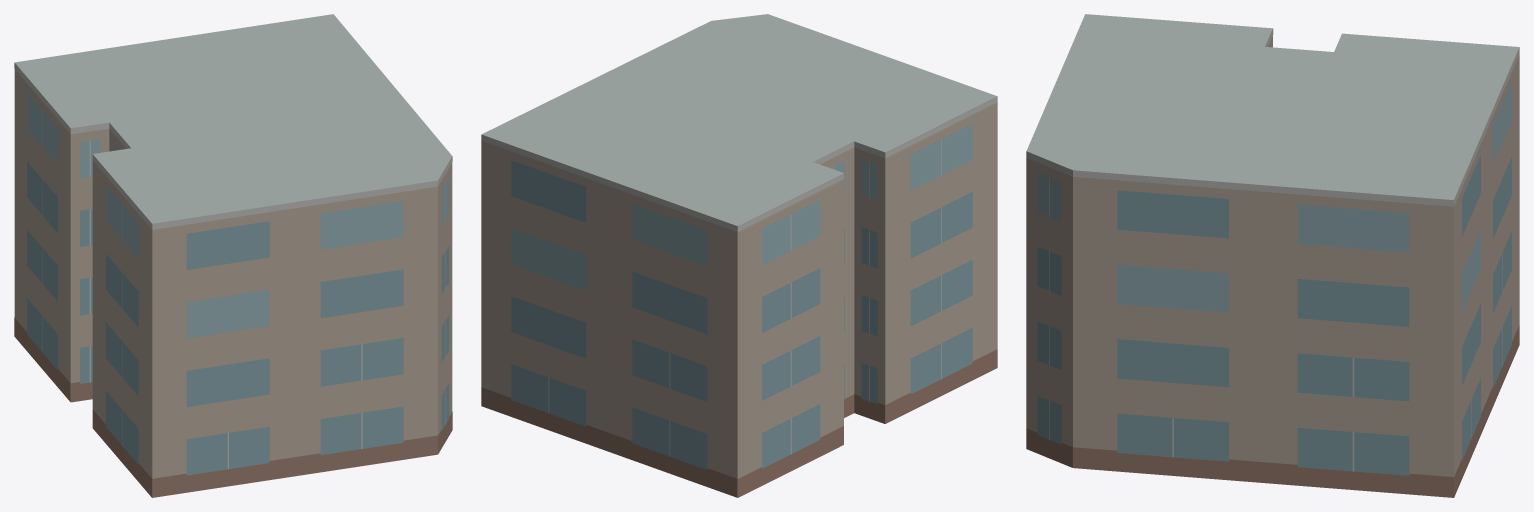
The model's file is survey-upis-32658077.glb.
3 renders of one model, left to right at view 1: azimuth 30°, elevation 25°; view 2: azimuth 150°, elevation 25°; view 3: azimuth 270°, elevation 25°, orthographic. The views are drawn at different scales.
Visible parts, largest first — view 1: survey-upis-32658077.tmp; view 2: survey-upis-32658077.tmp; view 3: survey-upis-32658077.tmp.
Part boxes in pixels (x1,y1,x2,y2): survey-upis-32658077.tmp: (14, 14, 452, 497); survey-upis-32658077.tmp: (481, 14, 997, 497); survey-upis-32658077.tmp: (1026, 14, 1519, 497).
Bounding box in the file's own units: 14.82 × 11.05 × 16.6.
